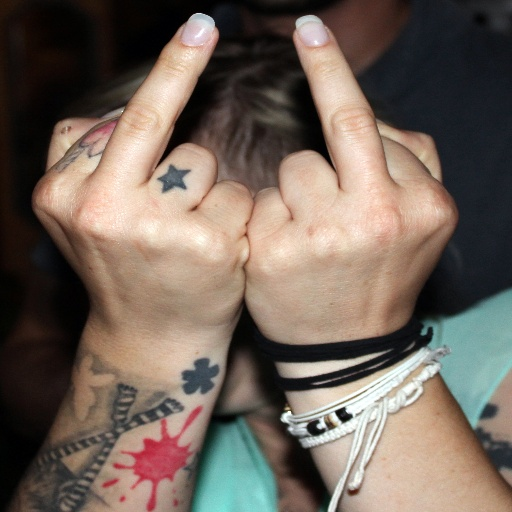hand: (29, 10, 254, 345), (239, 13, 459, 352)
